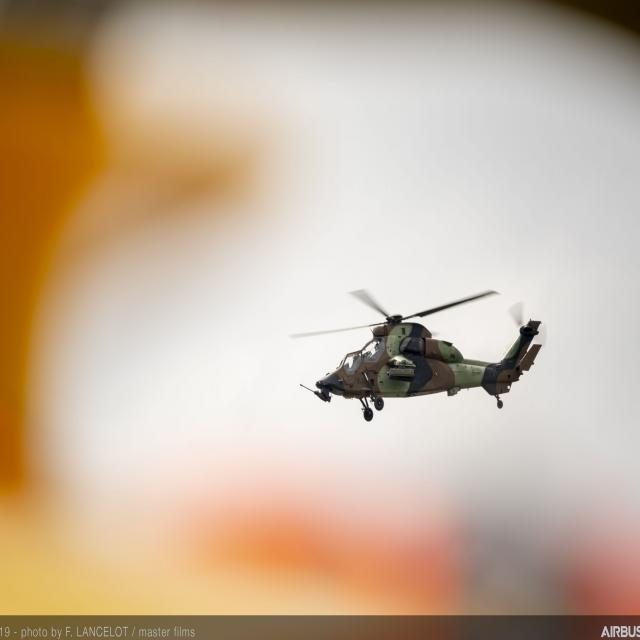helicopter: (288, 290, 546, 417)
